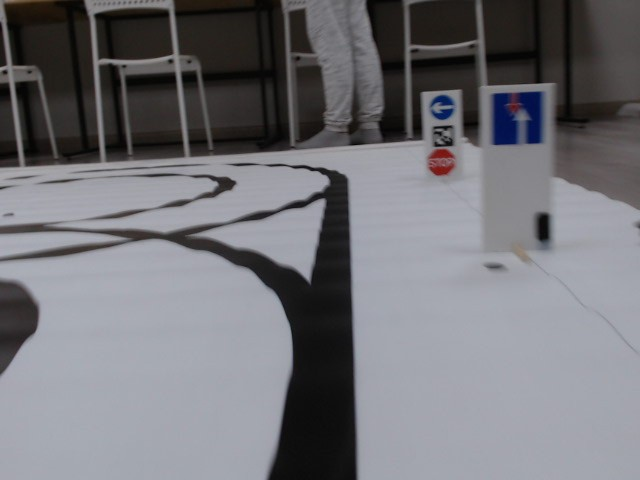Stop: (425, 147, 456, 177)
priority_movement: (488, 92, 548, 146)
